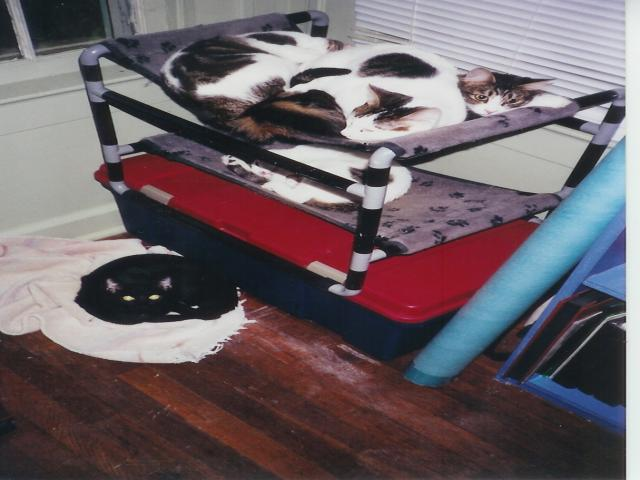Cat: (236, 46, 470, 142), (159, 31, 345, 113), (226, 141, 412, 211), (75, 256, 239, 326), (453, 65, 571, 118)
